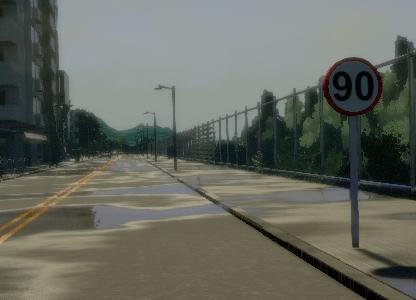Speed_90: (319, 53, 385, 123)
